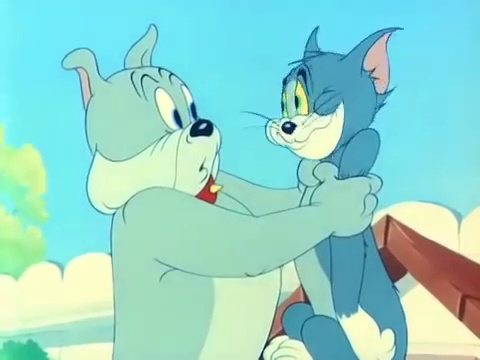spike: (59, 22, 226, 215)
tom: (262, 21, 411, 164)
